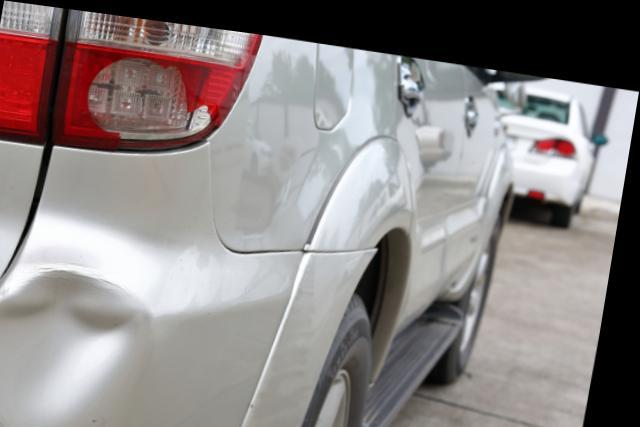dent: (0, 266, 155, 427)
lamp broken: (51, 7, 263, 146)
